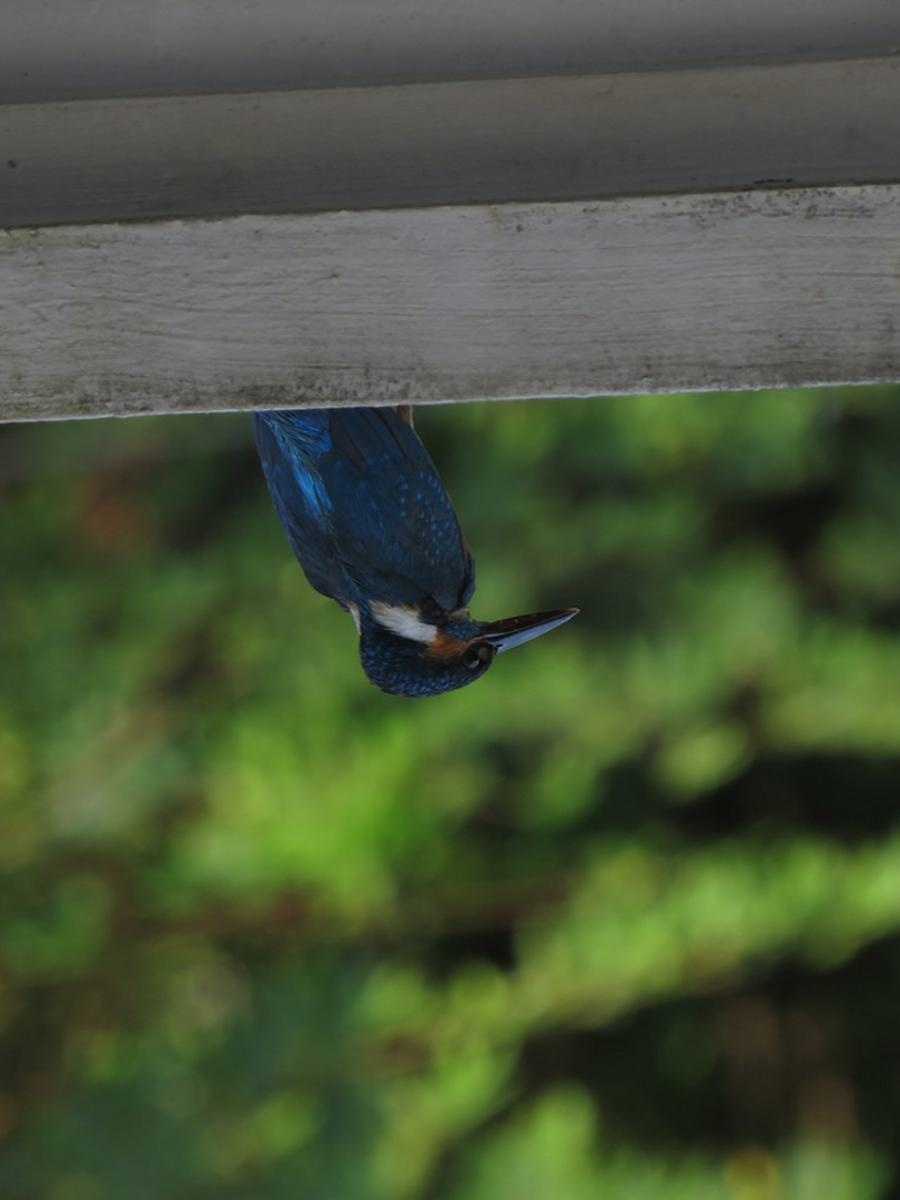kingfisher: (250, 391, 569, 712)
